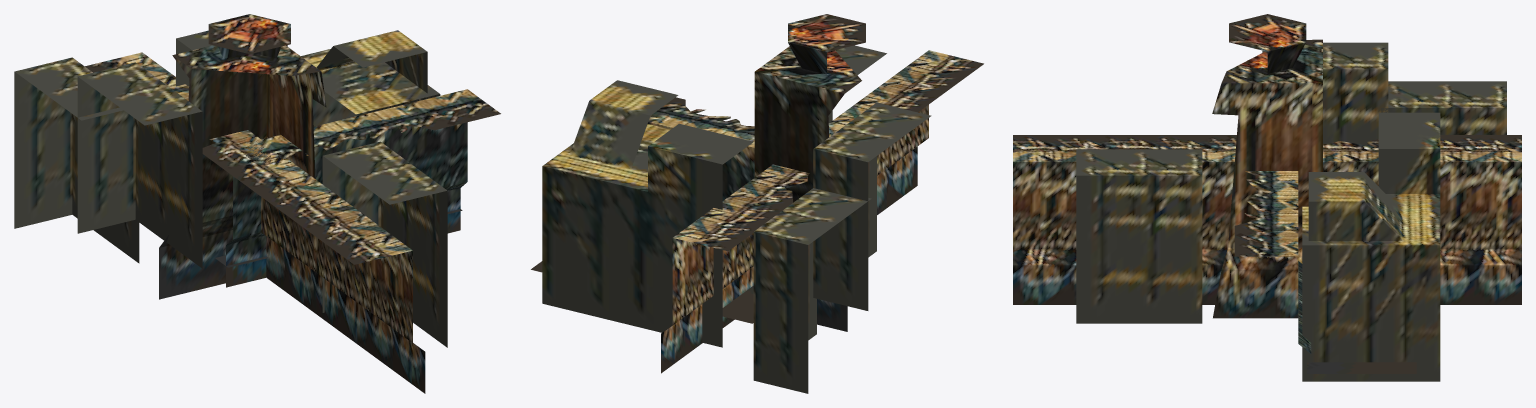
The model's file is F_GuildRampart_07.fbx.
3 views of the same model, side by side, from view 1: azimuth 30°, elevation 25°; view 2: azimuth 150°, elevation 25°; view 3: azimuth 270°, elevation 25° (orthographic). The views are drawn at different scales.
Visible parts, largest first — view 1: F_GuildRampart_07, T_BuildForm_02, T_BuildForm_02 (1), T_BuildForm_02 (2), T_BuildForm_01 (1); view 2: F_GuildRampart_07, T_BuildForm_01 (1), T_BuildForm_02 (2), T_BuildForm_02, T_BuildForm_02 (1); view 3: F_GuildRampart_07, T_BuildForm_01 (1), T_BuildForm_02 (1), T_BuildForm_02, T_BuildForm_02 (2).
Boxes of the visible parts, x1,y1,x2,y2 form: F_GuildRampart_07: [85, 14, 500, 393]; T_BuildForm_02: [77, 62, 202, 268]; T_BuildForm_02 (1): [322, 141, 447, 347]; T_BuildForm_02 (2): [14, 57, 139, 263]; T_BuildForm_01 (1): [176, 30, 440, 126]; F_GuildRampart_07: [531, 14, 983, 373]; T_BuildForm_01 (1): [542, 80, 753, 347]; T_BuildForm_02 (2): [753, 188, 871, 393]; T_BuildForm_02: [813, 102, 931, 310]; T_BuildForm_02 (1): [828, 45, 886, 122]; F_GuildRampart_07: [1013, 14, 1521, 373]; T_BuildForm_01 (1): [1302, 112, 1440, 381]; T_BuildForm_02 (1): [1076, 149, 1202, 323]; T_BuildForm_02: [1262, 42, 1388, 145]; T_BuildForm_02 (2): [1381, 81, 1506, 134].
Bounding box in the file's own units: 0.7287 × 0.5641 × 1.
2 materials, 2 textured.
